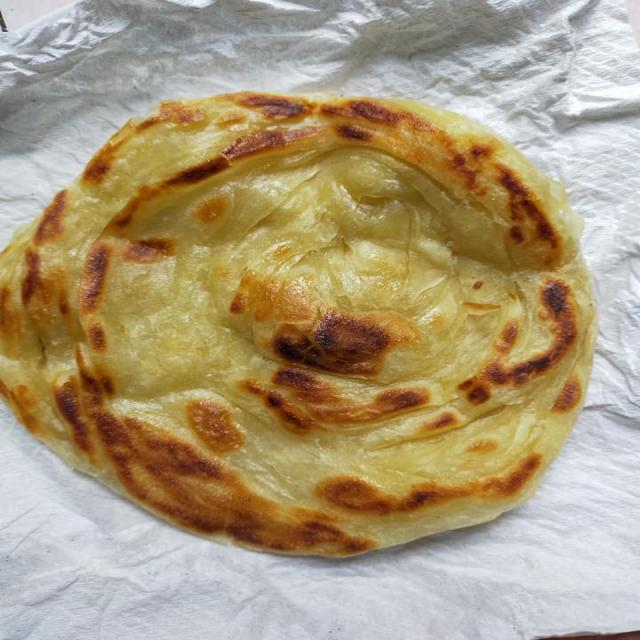Paratha: (7, 110, 562, 534)
